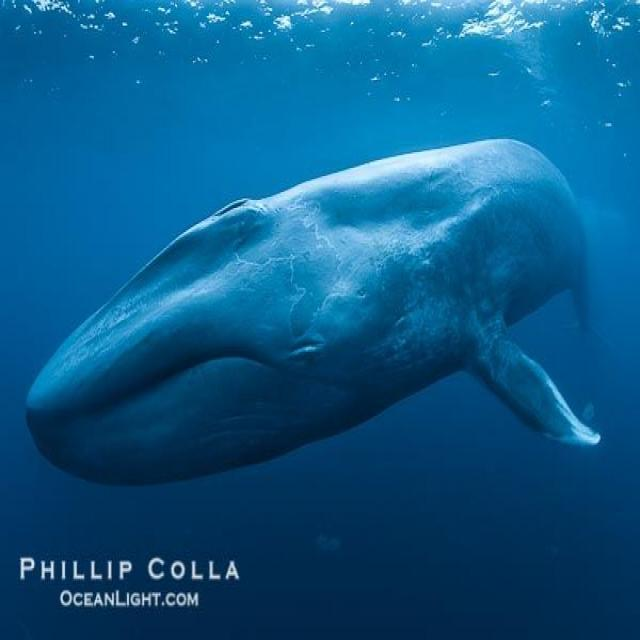blue_whale: (15, 124, 634, 526)
